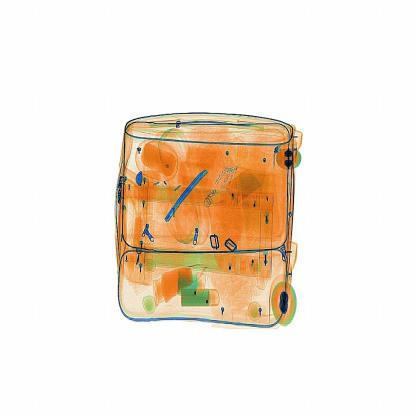pliers: (161, 156, 218, 228)
